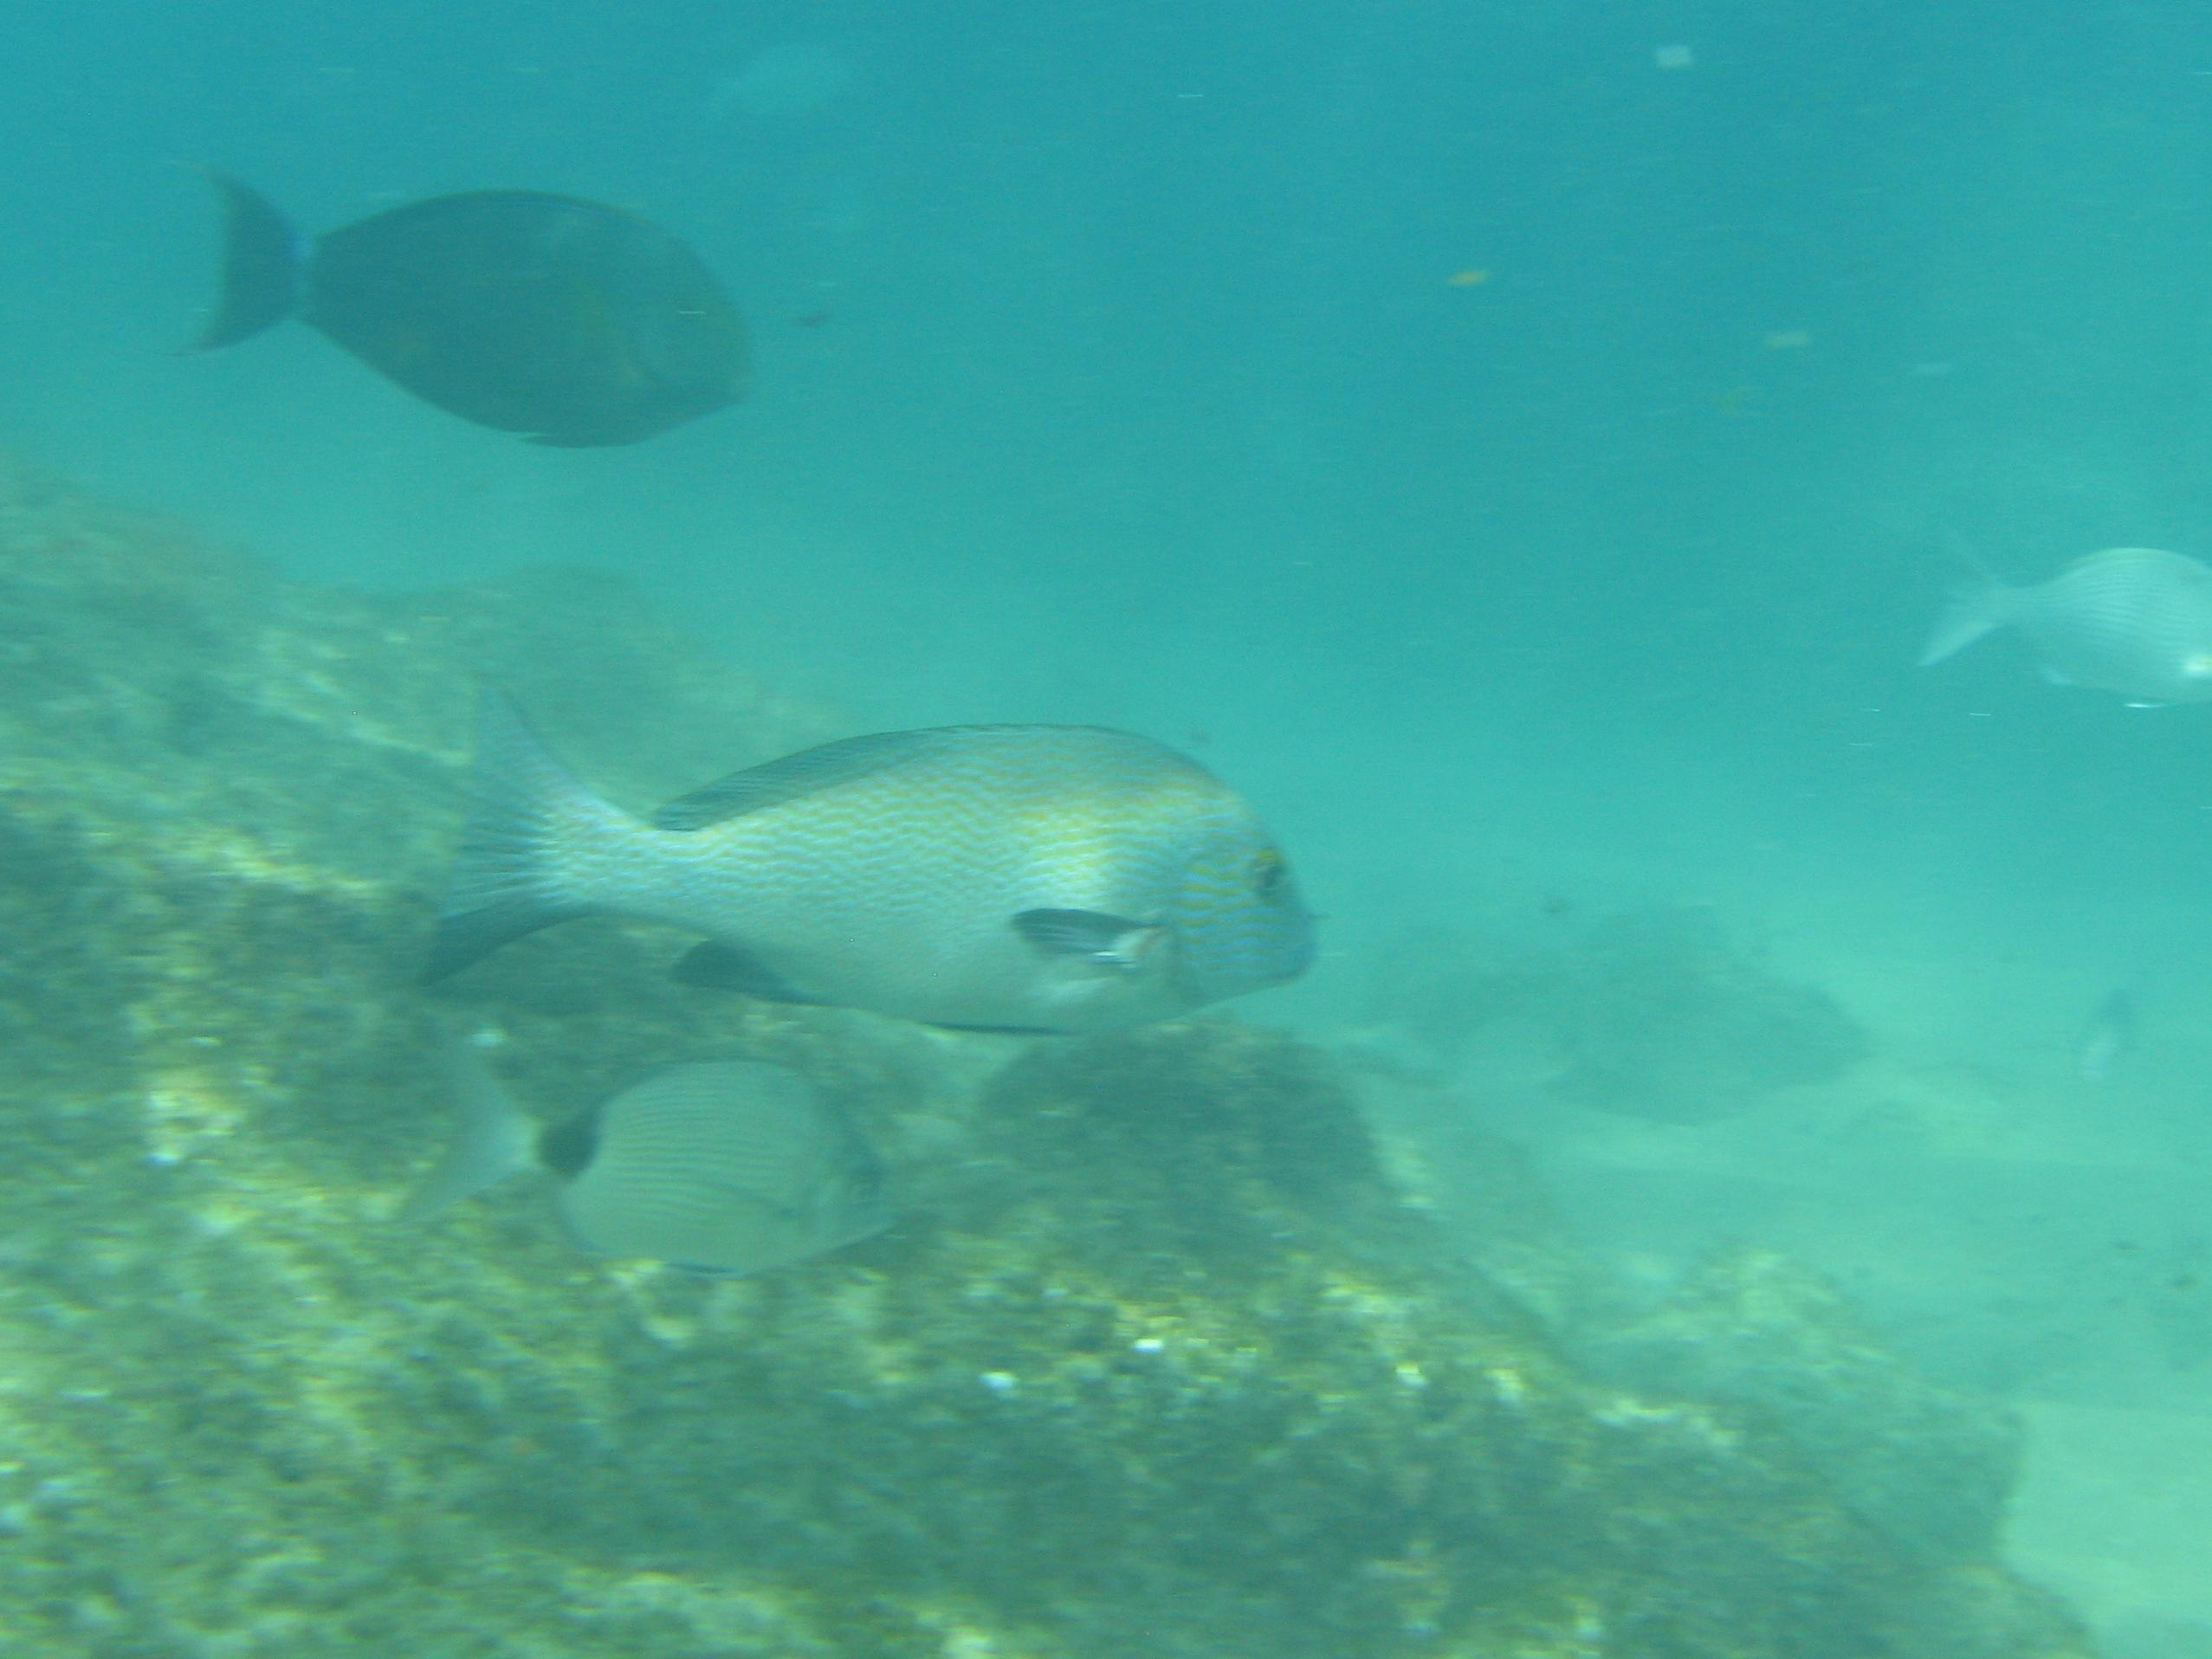Fish: (439, 652, 1360, 1033), (390, 1033, 901, 1272)
